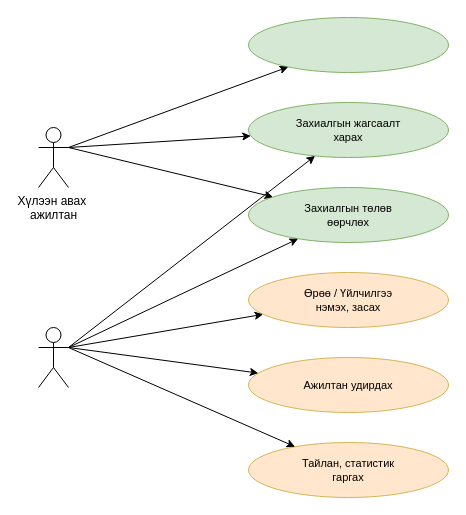
Some shapes in this 466 by 515 pixel diagram are drawn without their labels. Each missing label, with the box of its shape:
Админ: (38, 326, 68, 388)
Захиалга баталгаажуулах: (248, 16, 448, 72)
